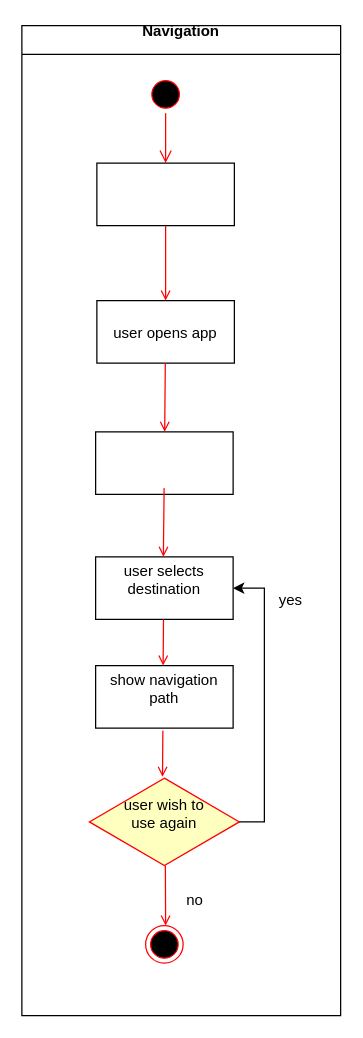
This 363x1038 diagram has some shape labels left out. Each missing label, with the centre of its shape:
"idle" goes at pixel 165 194.
"user navigates to 'Navigation'" goes at pixel 163 462.
